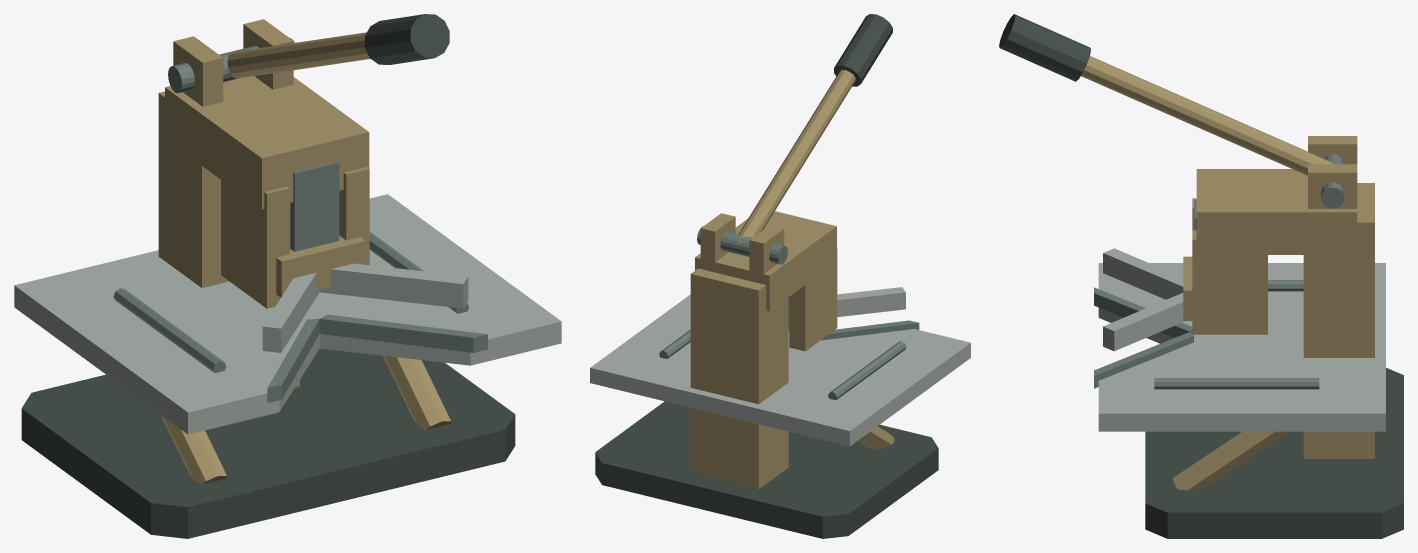
3 renders of one model, left to right at view 1: azimuth 30°, elevation 25°; view 2: azimuth 150°, elevation 25°; view 3: azimuth 270°, elevation 25°, orthographic. The views are drawn at different scales.
Parts seen in each view (by area): view 1: WholeBroadChamferedSole, WholeVOpenEmptyTable, WholeOverhangingTopHead, WholeShortRearSpine, WholeRaisedBluntVJaw, WholeUprightRamGuide-1, WholeCentralFixedRam, WholeLongRaisedHandLever, WholeLongLeverTerminalGrip, WholeLowerAngledEdgeStrip1, WholeRaisedJawCarrier, WholeUnderTableBrace1 (+8 smaller); view 2: WholeBroadChamferedSole, WholeVOpenEmptyTable, WholeShortRearSpine, WholeOverhangingTopHead, WholeLongRaisedHandLever, WholeUprightRamGuide-1, WholeLongLeverTerminalGrip, WholeRaisedBluntVJaw, WholeRearLeverCheek-1, WholeRearLeverCheek1, WholePlainTableGuide-1, WholeLeverTransversePivot (+2 smaller); view 3: WholeVOpenEmptyTable, WholeBroadChamferedSole, WholeOverhangingTopHead, WholeShortRearSpine, WholeUprightRamGuide1, WholeLongRaisedHandLever, WholeRaisedBluntVJaw, WholeLongLeverTerminalGrip, WholeUnderTableBrace1, WholePlainTableGuide1, WholeRearLeverCheek1, WholeLowerAngledEdgeStrip1 (+4 smaller).
Boxes of the visible parts, x1,y1,x2,y2 form: WholeBroadChamferedSole: (21,348,515,538); WholeVOpenEmptyTable: (14,194,561,434); WholeOverhangingTopHead: (165,76,369,209); WholeShortRearSpine: (158,91,299,387); WholeRaisedBluntVJaw: (262,263,468,352); WholeUprightRamGuide-1: (221,180,290,308); WholeCentralFixedRam: (290,162,339,251); WholeLongRaisedHandLever: (227,32,370,78); WholeLongLeverTerminalGrip: (364,14,449,64); WholeLowerAngledEdgeStrip1: (319,314,487,352); WholeRaisedJawCarrier: (276,235,365,297); WholeUnderTableBrace1: (383,355,451,429); WholeBroadChamferedSole: (595,401,938,538); WholeVOpenEmptyTable: (590,294,970,446); WholeShortRearSpine: (690,268,788,489); WholeOverhangingTopHead: (695,211,836,311); WholeLongRaisedHandLever: (737,70,855,243); WholeUprightRamGuide-1: (789,248,837,351); WholeLongLeverTerminalGrip: (834,14,892,86); WholeRaisedBluntVJaw: (837,287,905,316); WholeRearLeverCheek-1: (749,225,784,284); WholeRearLeverCheek1: (700,213,735,270); WholePlainTableGuide-1: (828,341,906,400); WholeLeverTransversePivot: (697,226,787,264); WholeVOpenEmptyTable: (1098,263,1385,431); WholeBroadChamferedSole: (1145,367,1403,538); WholeOverhangingTopHead: (1196,169,1357,254); WholeShortRearSpine: (1303,183,1374,458); WholeUprightRamGuide1: (1192,230,1267,334); WholeLongRaisedHandLever: (1081,56,1334,175); WholeRaisedBluntVJaw: (1103,248,1185,351); WholeLongLeverTerminalGrip: (999,14,1090,81); WholeUnderTableBrace1: (1172,431,1289,490); WholePlainTableGuide1: (1154,378,1319,389); WholeRearLeverCheek1: (1308,164,1357,208); WholeLowerAngledEdgeStrip1: (1094,332,1193,388).
Size of the model in its own units: 0.8 by 1.11 by 0.9084.
